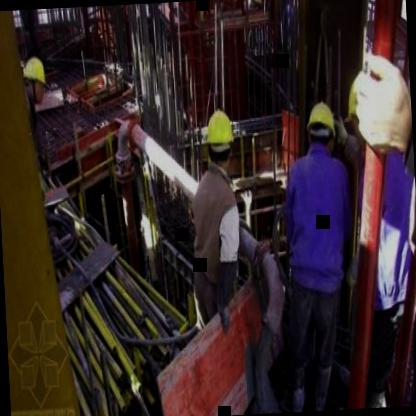helmet: (202, 102, 238, 175), (306, 98, 337, 154), (23, 51, 50, 104)
